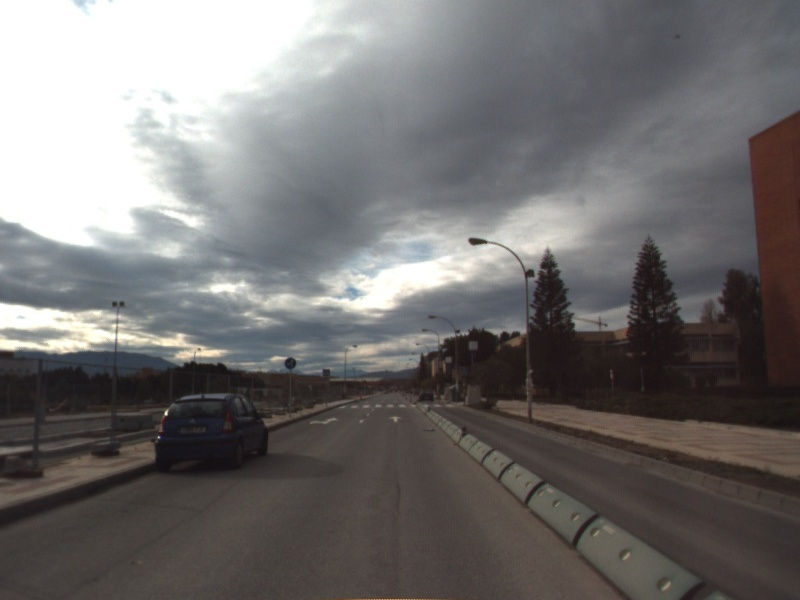STRAIGHT: (387, 413, 404, 424)
STRAIGHT_LEFT: (308, 414, 340, 427)
